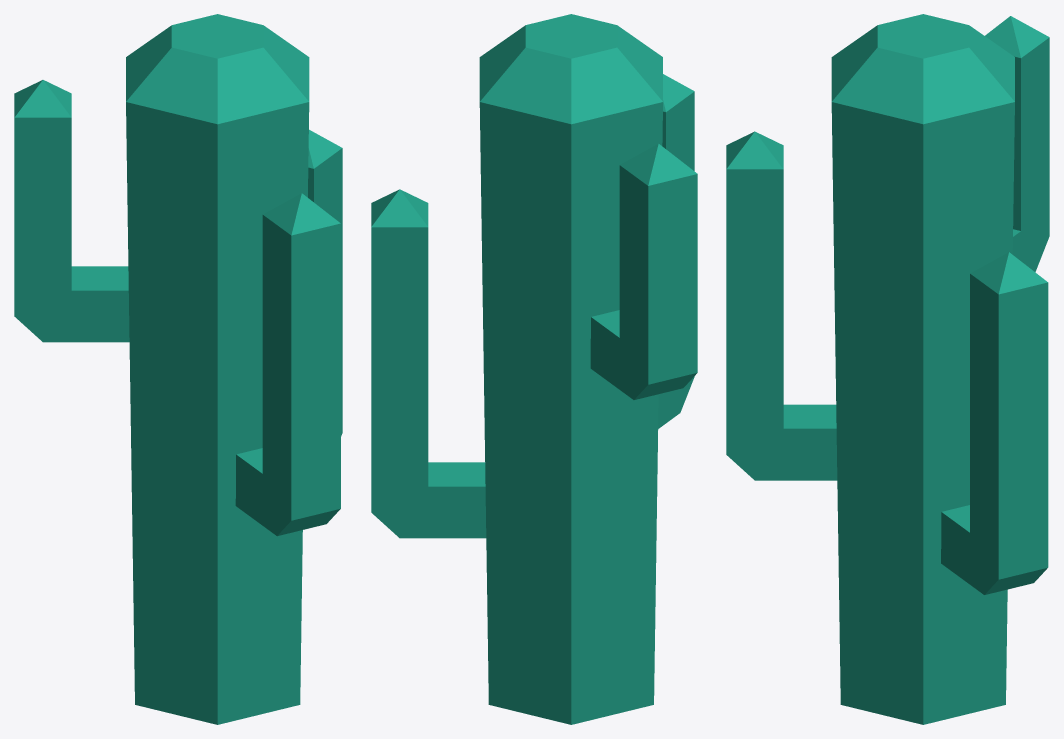
File: cactus-tall.glb
3 views of the same model, side by side, from view 1: azimuth 30°, elevation 25°; view 2: azimuth 150°, elevation 25°; view 3: azimuth 270°, elevation 25° (orthographic).
Parts seen in each view (by area): view 1: geometry_0; view 2: geometry_0; view 3: geometry_0.
Part boxes in pixels (<box>): geometry_0: <box>14,14,342,724</box>; geometry_0: <box>371,14,697,724</box>; geometry_0: <box>726,14,1049,724</box>.
Bounding box in the file's own units: 0.3947 × 0.747 × 0.3377.
